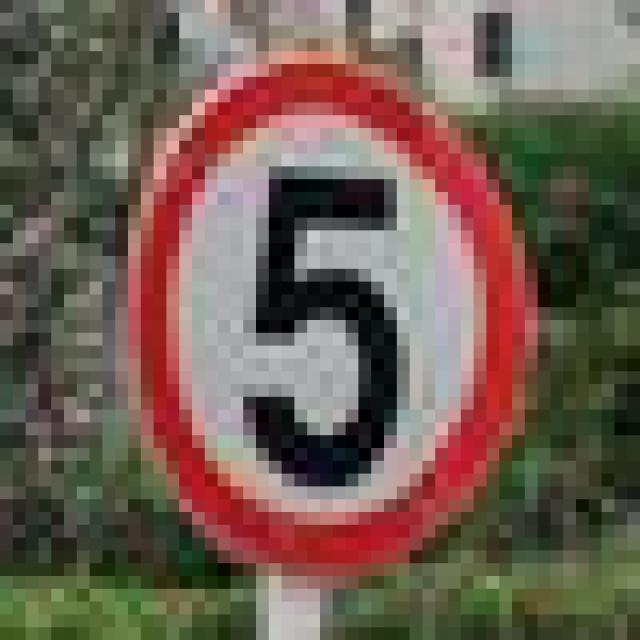speed_limit_20: (102, 38, 525, 576)
